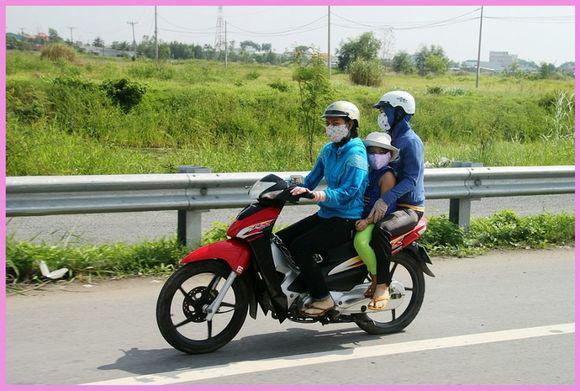OK: (325, 118, 349, 143), (368, 148, 392, 171), (379, 109, 400, 133)
